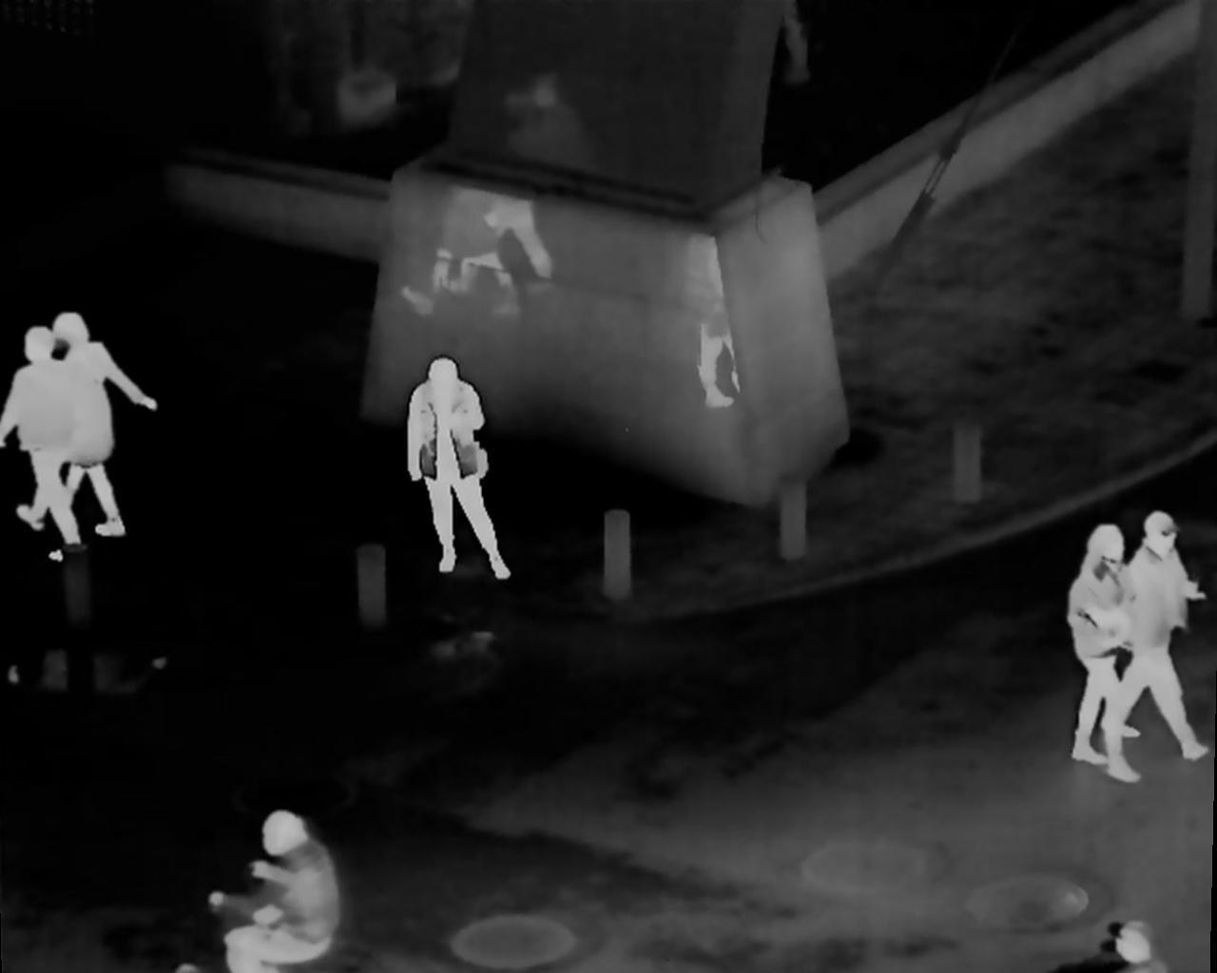person: (406, 355, 505, 586), (208, 811, 341, 973), (47, 315, 137, 530), (1066, 526, 1139, 784), (1129, 511, 1202, 763), (12, 329, 88, 551)
